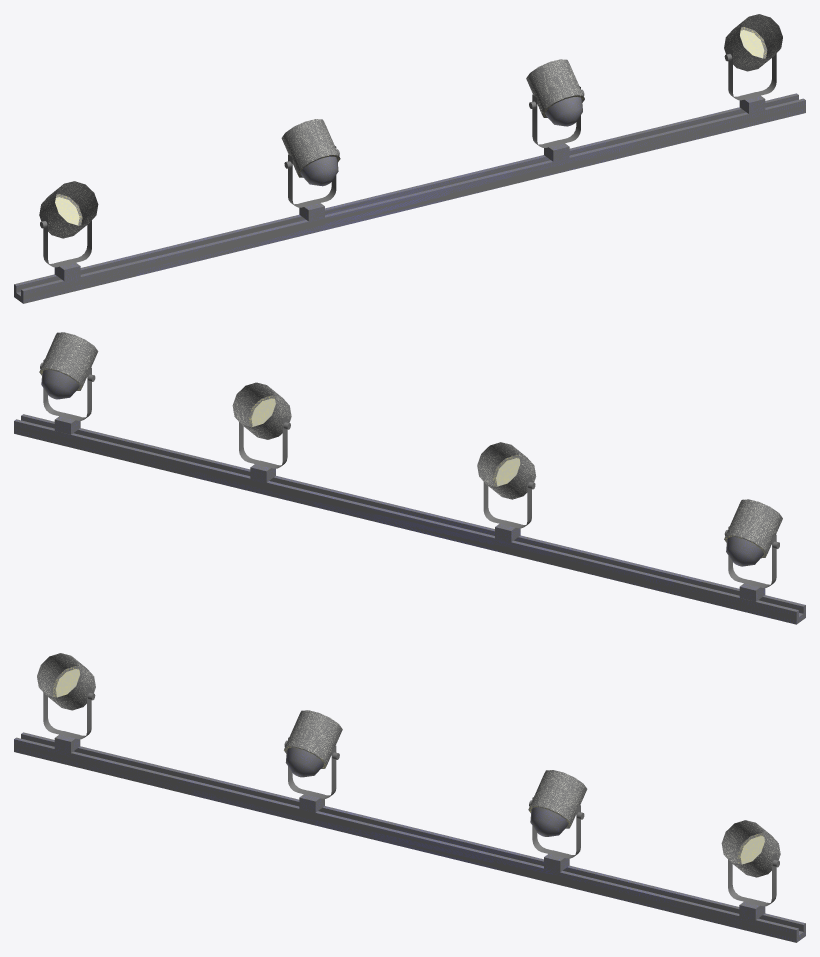
3 views of the same model, one above another, from view 1: azimuth 30°, elevation 25°; view 2: azimuth 150°, elevation 25°; view 3: azimuth 330°, elevation 25° (orthographic).
Visible parts, largest first — view 1: SketchUp, half (×8); view 2: SketchUp, half (×8); view 3: SketchUp, half (×8).
Part boxes in pixels (x1,y1,x2,y2): SketchUp: (14,93,805,303); half (×8): (39,14,782,238); SketchUp: (14,414,805,624); half (×8): (51,333,782,566); SketchUp: (14,732,805,942); half (×8): (37,653,780,877).
Bounding box in the file's own units: 79.51 × 5.77 × 10.43.
